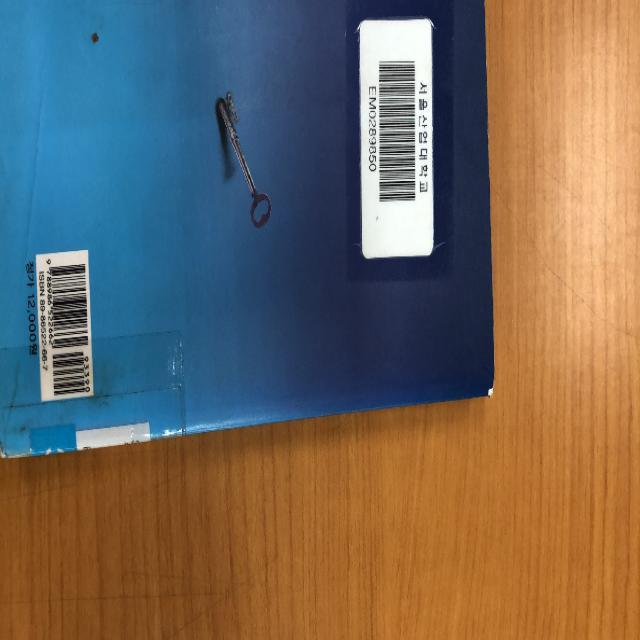Wornout: (475, 349, 501, 405)
